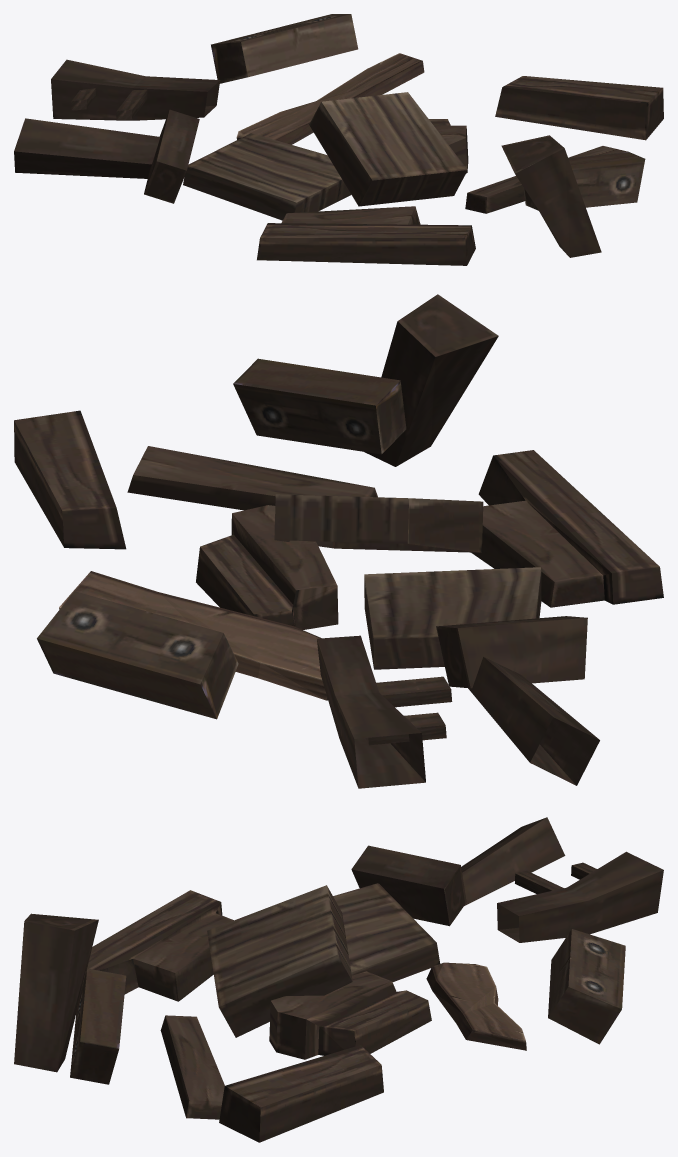
The model's file is bandit_scrap_02.fbx.
3 views of the same model, one above another, from view 1: azimuth 30°, elevation 25°; view 2: azimuth 150°, elevation 25°; view 3: azimuth 270°, elevation 25° (orthographic). The views are drawn at different scales.
Parts seen in each view (by area): view 1: obj0.623; view 2: obj0.623; view 3: obj0.623.
Boxes of the visible parts, x1=… form: obj0.623: x1=14, y1=14, x2=663, y2=265; obj0.623: x1=14, y1=294, x2=663, y2=788; obj0.623: x1=14, y1=817, x2=663, y2=1142.
Size of the model in its own units: 3.91 by 0.8052 by 3.58.
